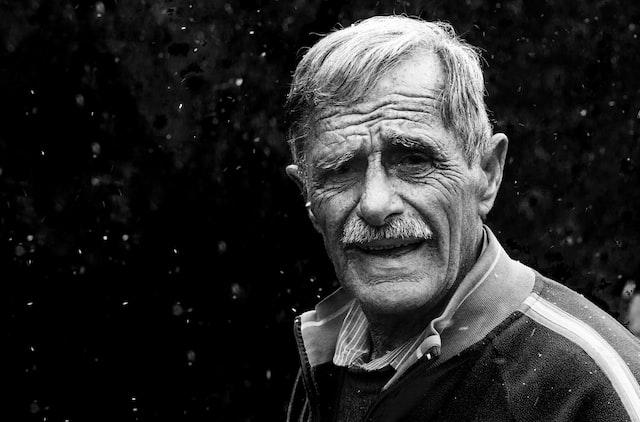chin: (370, 272, 418, 284)
crows_feet: (435, 153, 459, 181), (311, 180, 329, 196)
forehead: (392, 100, 436, 126), (352, 107, 384, 130), (316, 110, 344, 130)
frown_line: (360, 130, 382, 153)
gummy_smile: (400, 196, 436, 220), (340, 202, 358, 226)
masseter: (444, 217, 456, 270)
